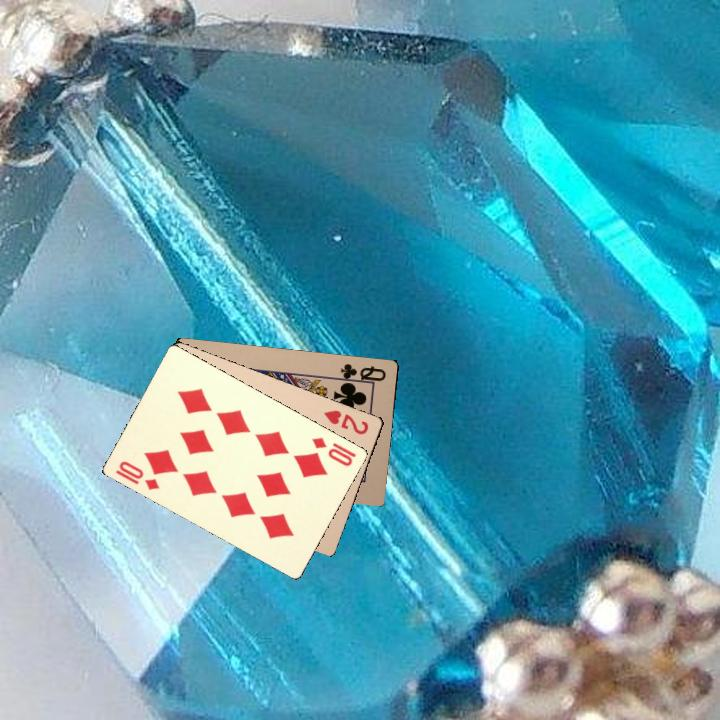10d: (111, 457, 162, 493), (308, 433, 358, 469)
2h: (320, 406, 371, 437)
Qc: (334, 359, 388, 387)
